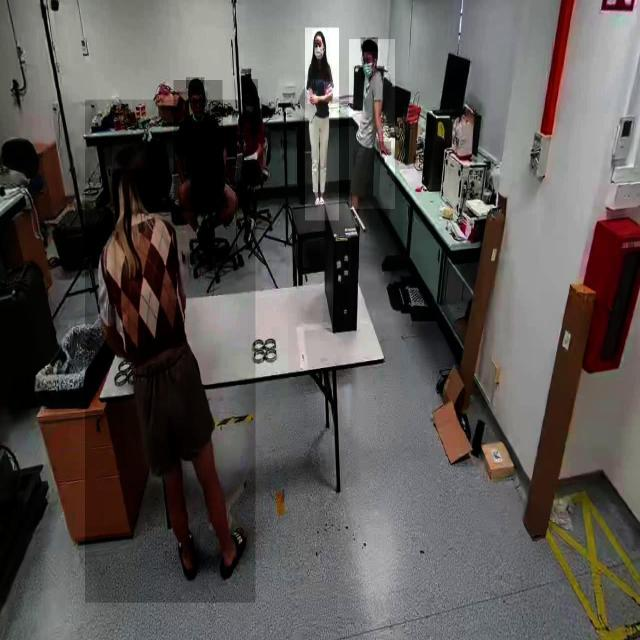face_mask: (243, 97, 257, 123), (362, 54, 374, 82), (314, 40, 324, 61)
face_nomask: (189, 94, 205, 116)
hand_noglove: (377, 142, 391, 156), (308, 91, 318, 105), (324, 82, 334, 94)
head_nohelmet: (112, 140, 147, 170), (242, 79, 258, 95), (186, 77, 205, 90), (361, 38, 378, 52), (313, 29, 325, 38)
person: (85, 100, 256, 604), (349, 39, 395, 210), (173, 80, 223, 212), (305, 28, 339, 222)
